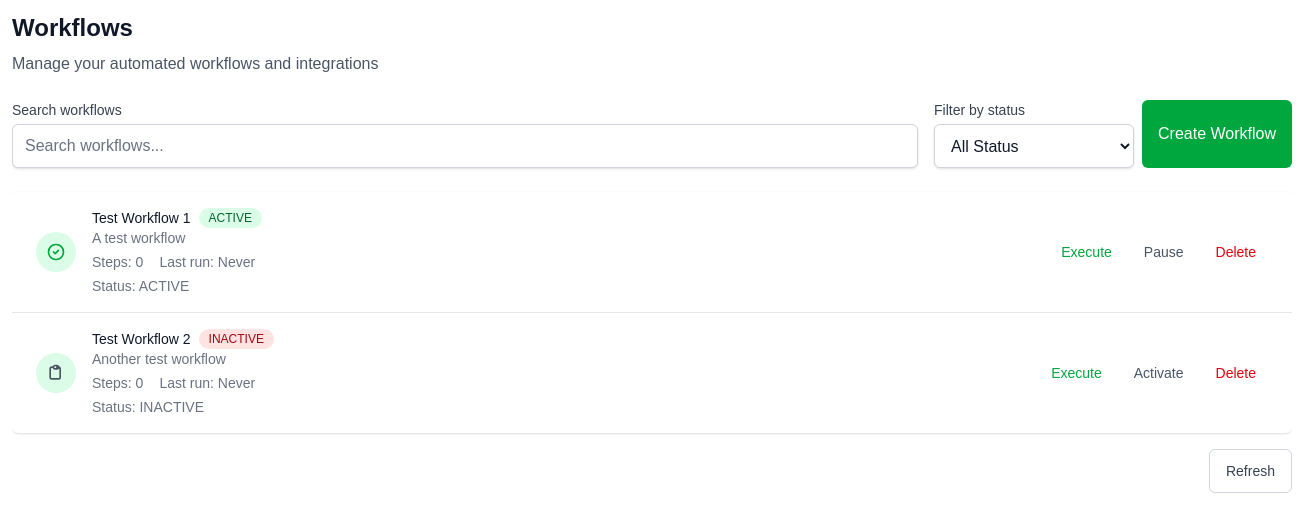
WorkflowsTab › Empty State › renders empty state when search has no results
Type "Non-existent workflow" into the field with test id "search-input" at (465, 146), box top-left (12, 124), bottom-right (918, 168)
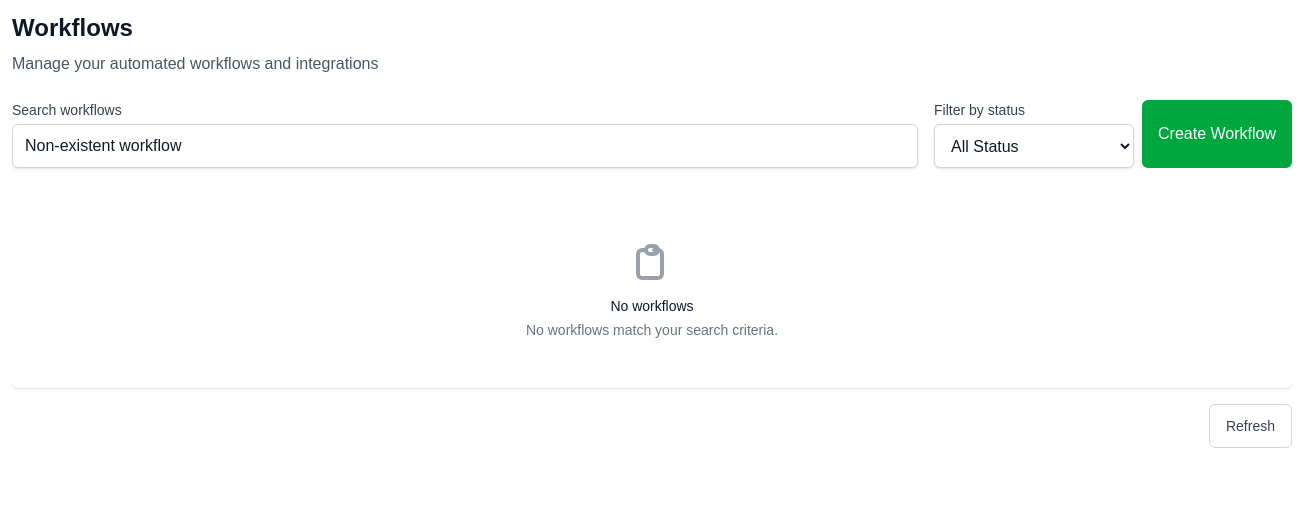
Expected: the heading "No workflows" is shown, top-left (610, 298), bottom-right (694, 314)
Expected: the text "No workflows match your search criteria." is shown, top-left (526, 322), bottom-right (778, 338)
